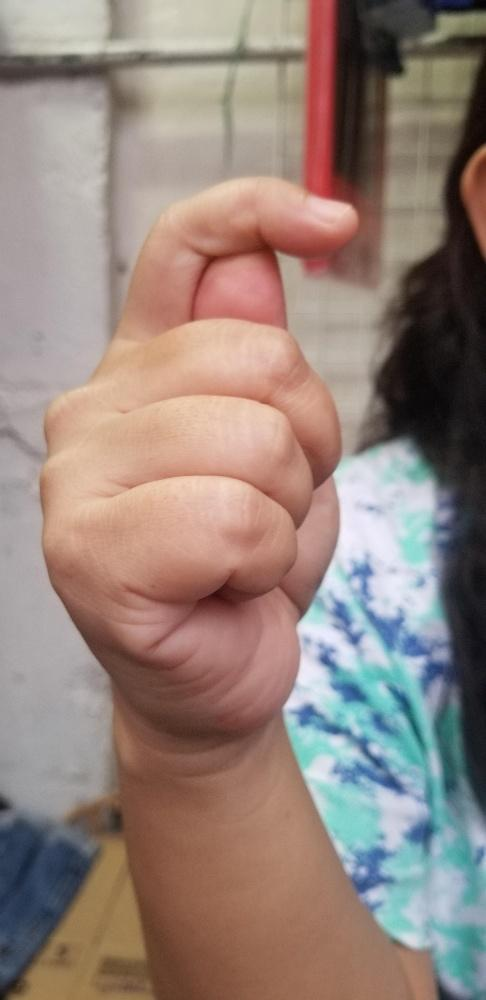t: (39, 173, 362, 724)
